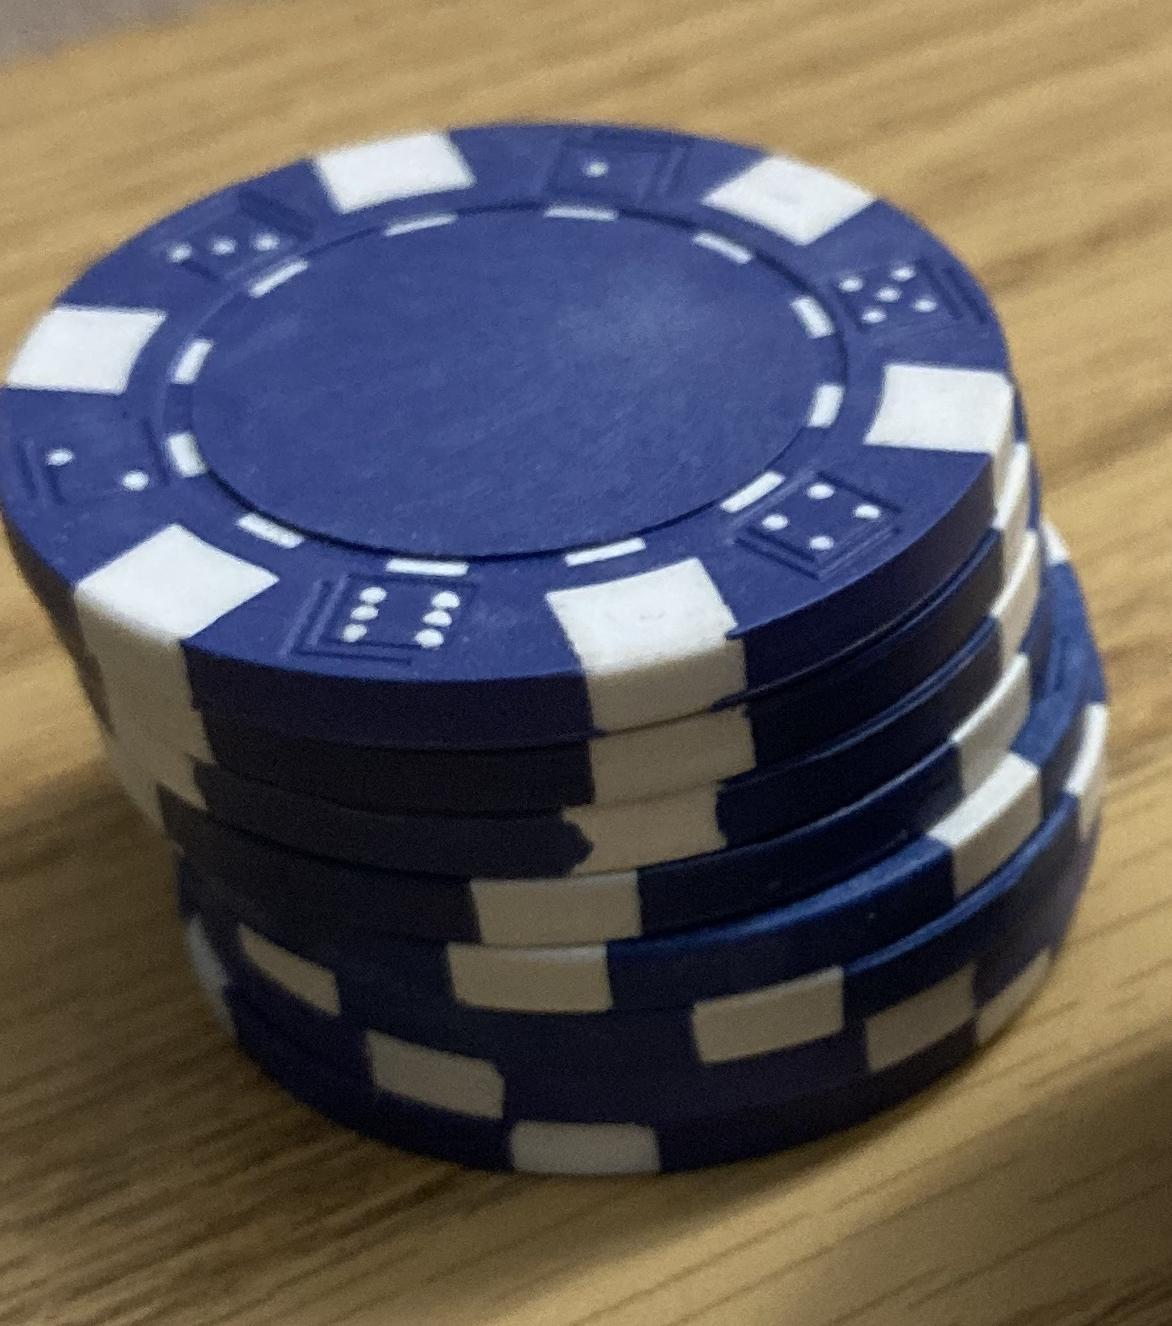Chip: (1, 1, 1172, 1326)
